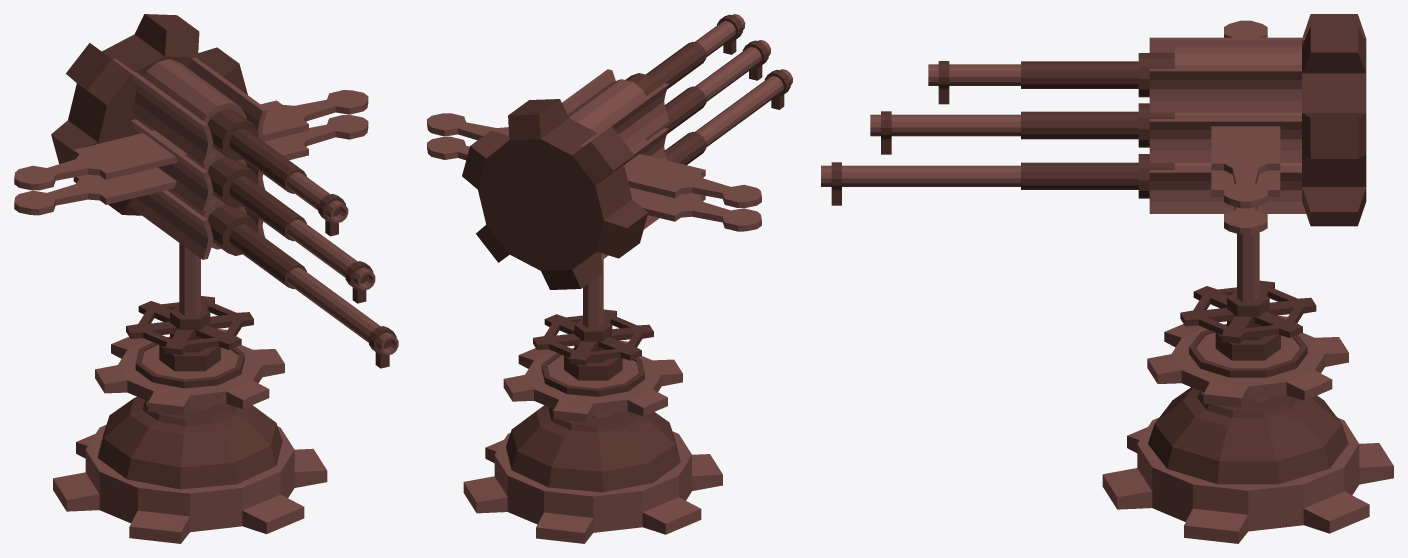
File: gun_7.glb
3 views of the same model, side by side, from view 1: azimuth 30°, elevation 25°; view 2: azimuth 150°, elevation 25°; view 3: azimuth 270°, elevation 25° (orthographic). The views are drawn at different scales.
Parts seen in each view (by area): view 1: Gun_7_Gun_Cylinder.074, Gun_7_Base_Cylinder.075, Gun_7_Mid_Cylinder.214; view 2: Gun_7_Gun_Cylinder.074, Gun_7_Base_Cylinder.075, Gun_7_Mid_Cylinder.214; view 3: Gun_7_Gun_Cylinder.074, Gun_7_Base_Cylinder.075, Gun_7_Mid_Cylinder.214.
Boxes of the visible parts, box(x1,y1,x2,y2) form: Gun_7_Gun_Cylinder.074: box(14, 14, 398, 368); Gun_7_Base_Cylinder.075: box(53, 337, 327, 543); Gun_7_Mid_Cylinder.214: box(95, 243, 284, 415); Gun_7_Gun_Cylinder.074: box(427, 14, 792, 289); Gun_7_Base_Cylinder.075: box(463, 353, 722, 543); Gun_7_Mid_Cylinder.214: box(503, 259, 682, 422); Gun_7_Gun_Cylinder.074: box(821, 14, 1366, 234); Gun_7_Base_Cylinder.075: box(1102, 324, 1393, 543); Gun_7_Mid_Cylinder.214: box(1147, 232, 1348, 407).
Size of the model in its own units: 2.02 by 2.41 by 2.71.
